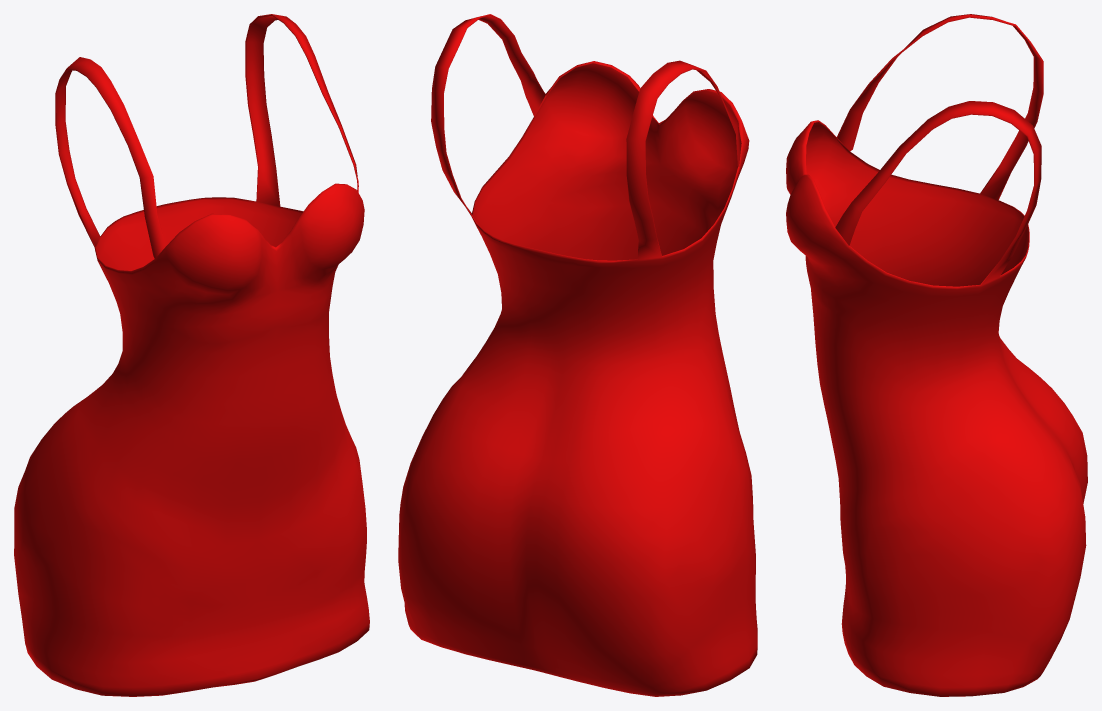
The model's file is weigher_skin_2.fbx.
The picture shows the model from 3 angles, left to right: view 1: azimuth 30°, elevation 25°; view 2: azimuth 150°, elevation 25°; view 3: azimuth 270°, elevation 25°; orthographic projection. The views are drawn at different scales.
Parts seen in each view (by area): view 1: dress_1; view 2: dress_1; view 3: dress_1.
Boxes of the visible parts, left/top/right/bottom form: dress_1: left=14, top=14, right=369, bottom=696; dress_1: left=398, top=14, right=757, bottom=696; dress_1: left=786, top=14, right=1087, bottom=696.
Bounding box in the file's own units: 0.3786 × 0.6895 × 0.3309.
